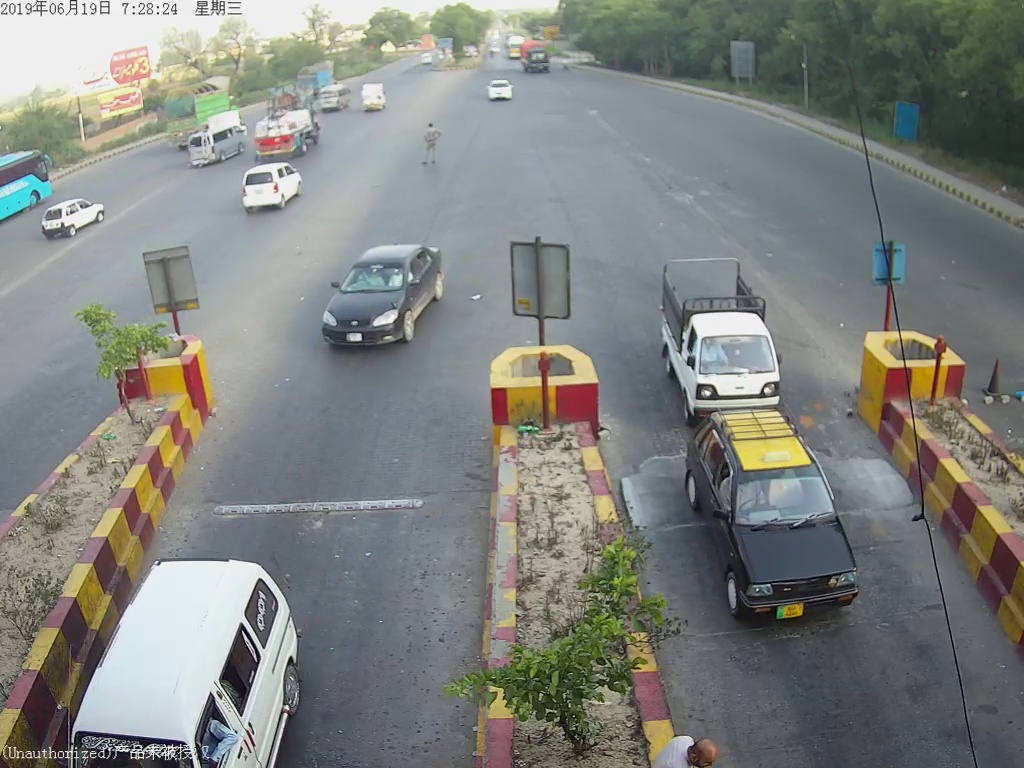Cat-1: (679, 410, 884, 641), (643, 255, 802, 402), (315, 238, 445, 352)
